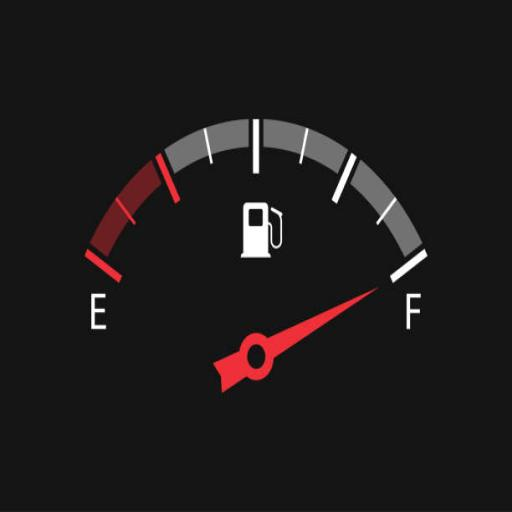empty: (85, 285, 110, 339)
fuel_icon: (234, 190, 288, 269)
full: (399, 284, 426, 330)
guage_area: (77, 65, 448, 449)
needle_center: (228, 312, 280, 397)
needle_tip: (347, 277, 385, 312)
